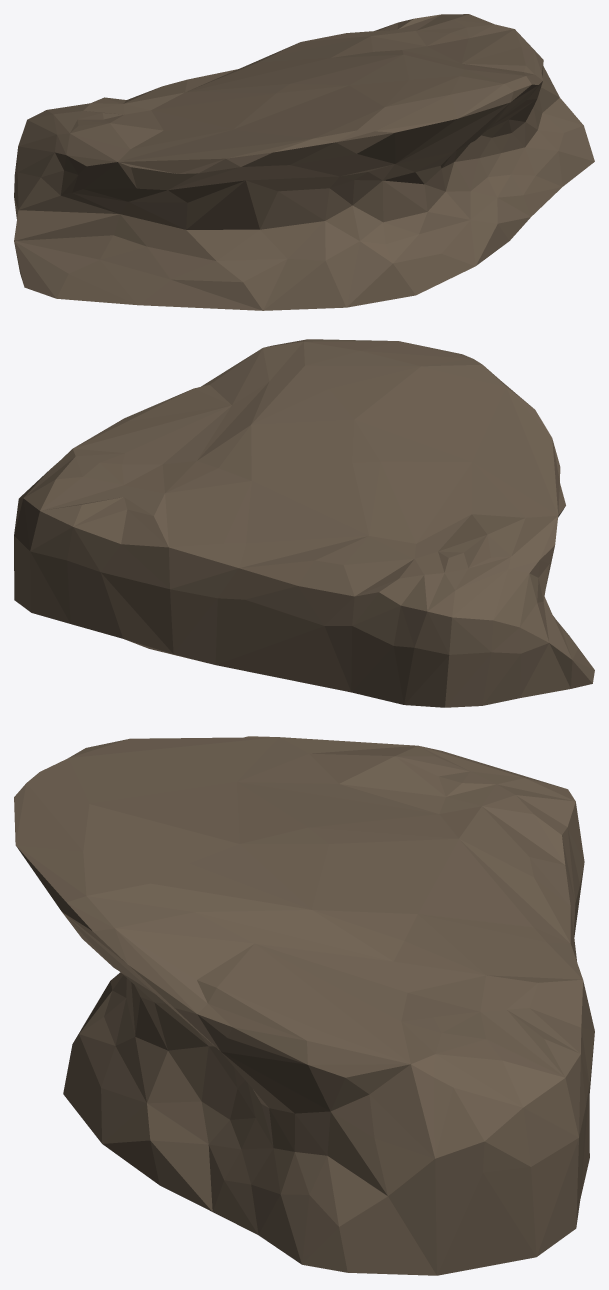
File: samurai_SM_Gen_Env_Ground_River_Dirt_03.gltf
3 renders of one model, top to bottom at view 1: azimuth 30°, elevation 25°; view 2: azimuth 150°, elevation 25°; view 3: azimuth 270°, elevation 25°, orthographic. The views are drawn at different scales.
Visible parts, largest first — view 1: SM_Gen_Env_Ground_River_Dirt_03; view 2: SM_Gen_Env_Ground_River_Dirt_03; view 3: SM_Gen_Env_Ground_River_Dirt_03.
Boxes of the visible parts, <box> form: SM_Gen_Env_Ground_River_Dirt_03: <box>14,14,594,310</box>; SM_Gen_Env_Ground_River_Dirt_03: <box>14,339,594,707</box>; SM_Gen_Env_Ground_River_Dirt_03: <box>14,736,594,1275</box>.
Bounding box in the file's own units: 11.24 × 3.64 × 6.97.
1 material, 1 textured.
